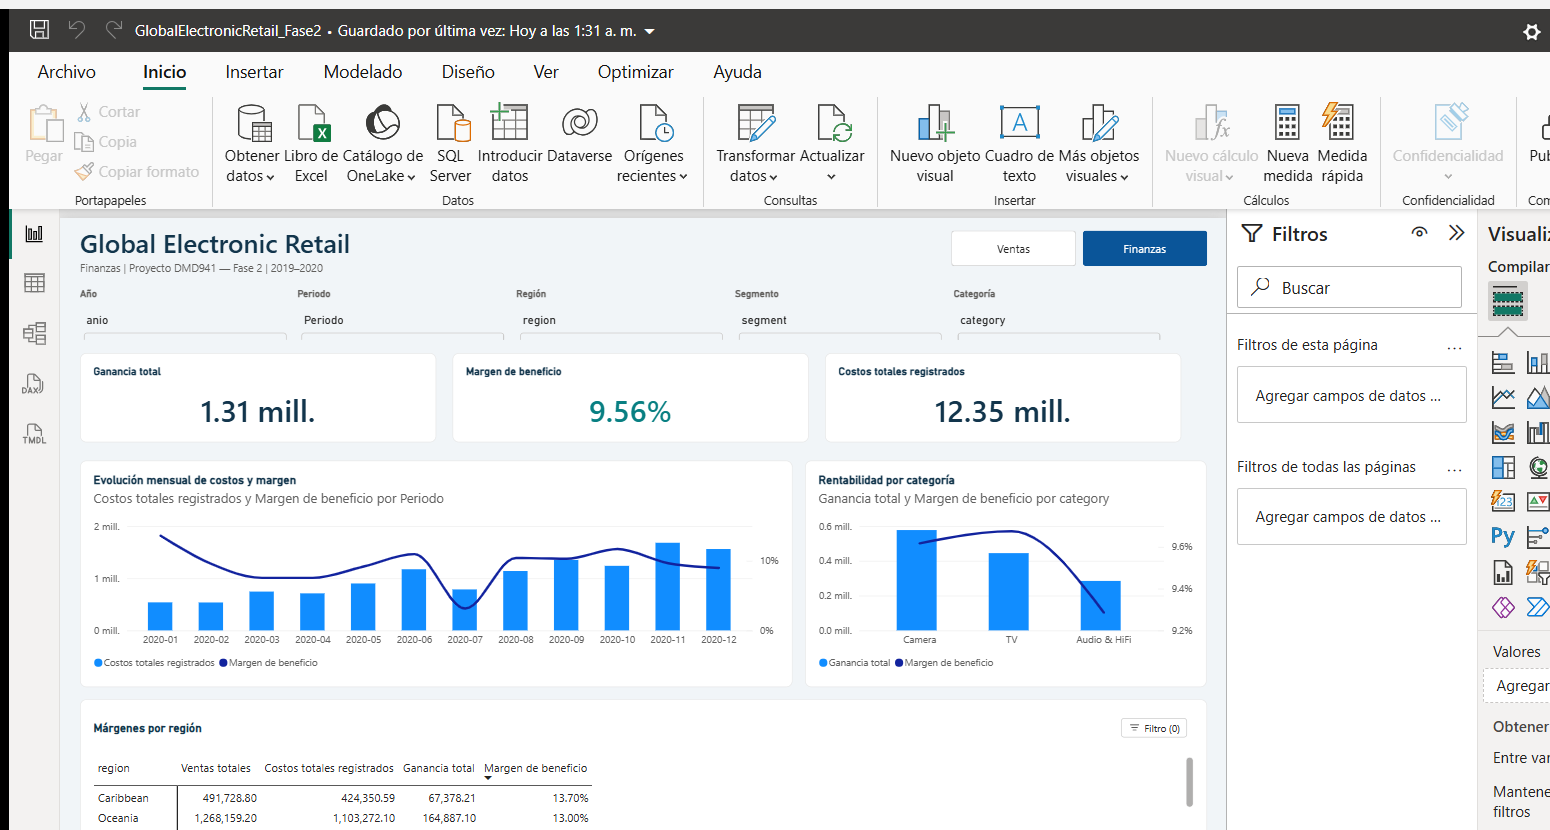

This screenshot's page, from the dashboard's own definition file:
{"tool":"powerbi","page":{"name":"Finanzas","canvas":[1440,900],"ordinal":1},"visuals":[{"type":"card","title":"Ganancia total","fields":{"Values":["fact_ventas_finanzas.Ganancia total"]},"box":[24,166,440,110],"z":100},{"type":"card","title":"Margen de beneficio","fields":{"Values":["fact_ventas_finanzas.Margen de beneficio"]},"box":[484,166,440,110],"z":100},{"type":"card","title":"Costos totales registrados","fields":{"Values":["fact_ventas_finanzas.Costos totales registrados"]},"box":[944,166,440,110],"z":100},{"type":"slicer","title":"Año","fields":{"Values":["dim_tiempo.anio"]},"box":[24,86,260,64],"z":200},{"type":"slicer","title":"Periodo","fields":{"Values":["dim_tiempo.Periodo"]},"box":[294,86,260,64],"z":200},{"type":"slicer","title":"Región","fields":{"Values":["dim_ubicacion.region"]},"box":[564,86,260,64],"z":200},{"type":"slicer","title":"Segmento","fields":{"Values":["dim_cliente.segment"]},"box":[834,86,260,64],"z":200},{"type":"slicer","title":"Categoría","fields":{"Values":["dim_producto.category"]},"box":[1104,86,260,64],"z":200},{"type":"lineStackedColumnComboChart","title":"Evolución mensual de costos y margen","fields":{"Category":["dim_tiempo.Periodo"],"Y":["fact_ventas_finanzas.Costos totales registrados"],"Y2":["fact_ventas_finanzas.Margen de beneficio"]},"box":[24,300,880,280],"z":300},{"type":"lineStackedColumnComboChart","title":"Rentabilidad por categoría","fields":{"Category":["dim_producto.category"],"Y":["fact_ventas_finanzas.Ganancia total"],"Y2":["fact_ventas_finanzas.Margen de beneficio"]},"box":[920,300,496,280],"z":300},{"type":"pivotTable","title":"Márgenes por región","fields":{"Rows":["dim_ubicacion.region"],"Values":["fact_ventas_finanzas.Ventas totales","fact_ventas_finanzas.Costos totales registrados","fact_ventas_finanzas.Ganancia total","fact_ventas_finanzas.Margen de beneficio"]},"box":[24,594,1392,268],"z":400},{"type":"textbox","box":[24,10,900,66],"z":1000},{"type":"textbox","box":[24,872,1000,20],"z":9000},{"type":"pageNavigator","box":[1100,16,316,44],"z":15000}]}

Visuals, with their boxes on the page's 1440x900 design canvas (x1, y1, x2, y2). These are canvas units, not pixel positions in the 1550x830 screenshot, which may show the page scaled, cropped or inside an application window:
"Ganancia total" card: [left=24, top=166, right=464, bottom=276]
"Margen de beneficio" card: [left=484, top=166, right=924, bottom=276]
"Costos totales registrados" card: [left=944, top=166, right=1384, bottom=276]
"Año" slicer: [left=24, top=86, right=284, bottom=150]
"Periodo" slicer: [left=294, top=86, right=554, bottom=150]
"Región" slicer: [left=564, top=86, right=824, bottom=150]
"Segmento" slicer: [left=834, top=86, right=1094, bottom=150]
"Categoría" slicer: [left=1104, top=86, right=1364, bottom=150]
"Evolución mensual de costos y margen" lineStackedColumnComboChart: [left=24, top=300, right=904, bottom=580]
"Rentabilidad por categoría" lineStackedColumnComboChart: [left=920, top=300, right=1416, bottom=580]
"Márgenes por región" pivotTable: [left=24, top=594, right=1416, bottom=862]
textbox: [left=24, top=10, right=924, bottom=76]
textbox: [left=24, top=872, right=1024, bottom=892]
pageNavigator: [left=1100, top=16, right=1416, bottom=60]
